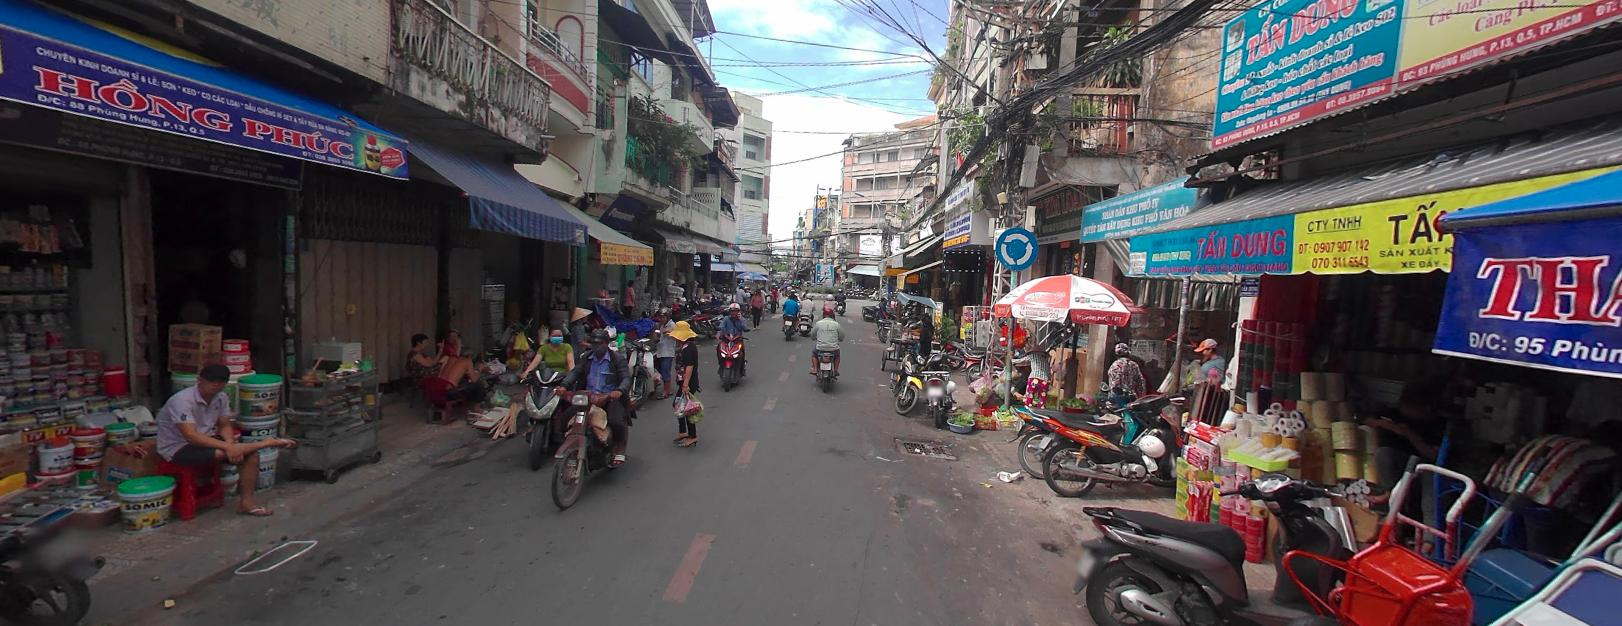Hieu lenh: (995, 223, 1039, 268)
